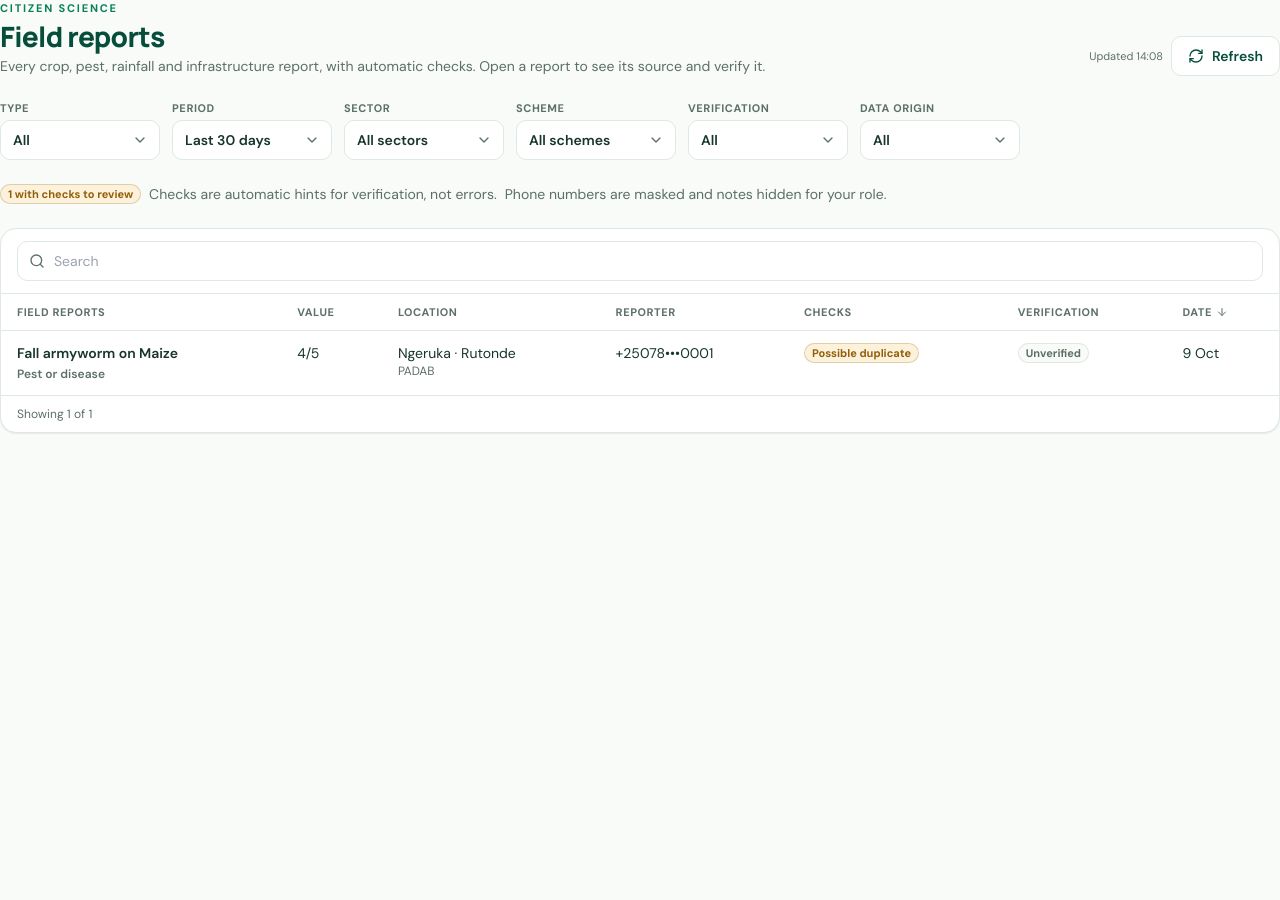
Test: FieldReportsPage › gives monitors no export and no verification
The image size is (1280, 900).
Click the button "Fall armyworm on Maize Pest or disease". click: click(98, 363)
box: top-left (17, 343), bottom-right (178, 383)
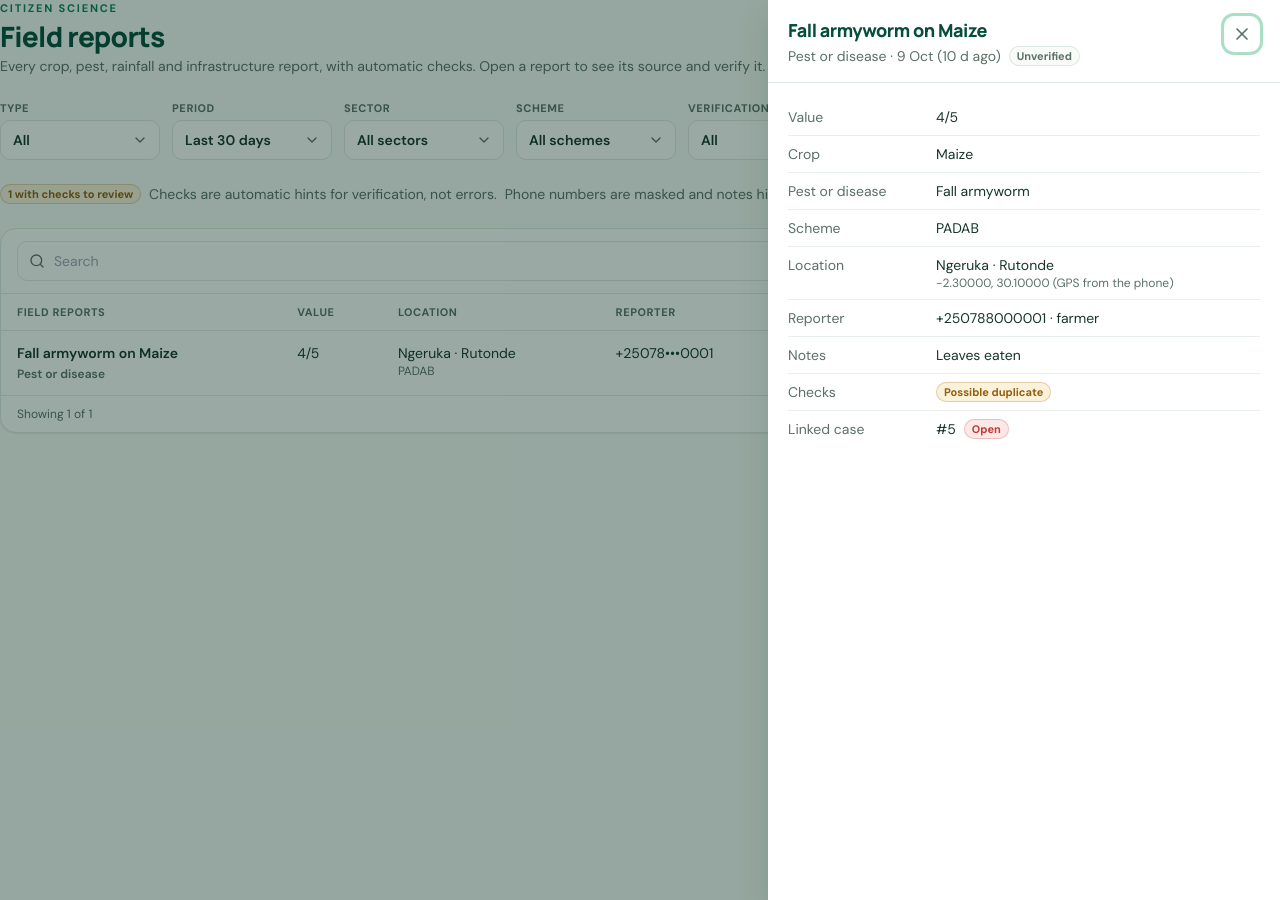
Expected: the text "Phone numbers are masked and notes hidden for your role." is shown, top-left (505, 184), bottom-right (886, 204)
Expected: the dialog is shown, top-left (768, 0), bottom-right (1279, 899)
